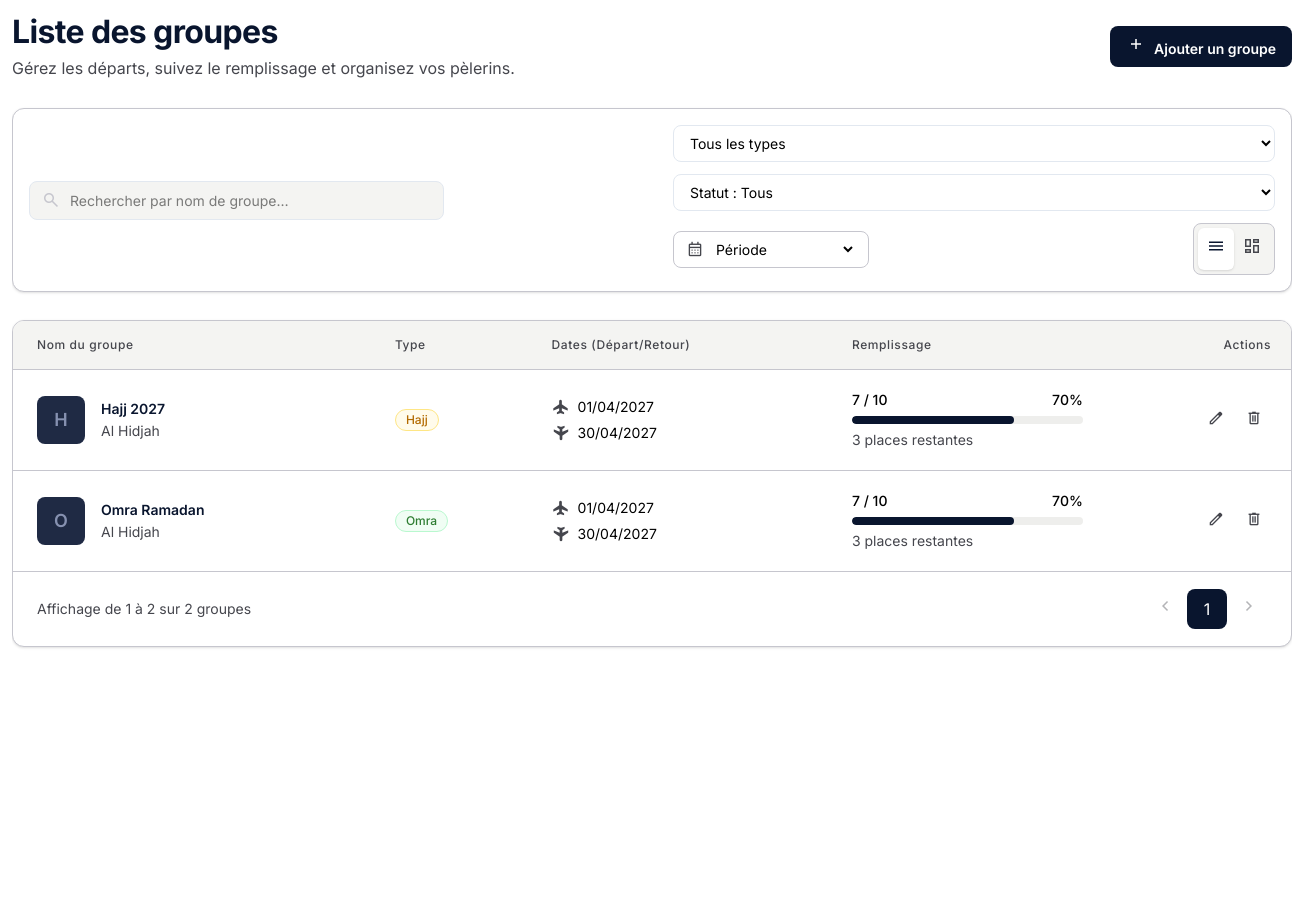
Test: Groupes › filtre la liste selon le type de voyage choisi
The width and height of the screenshot is (1304, 912).
Select "Hajj" in the dropdown named "Filtrer par type" at (974, 144), box [673,125,1275,162]
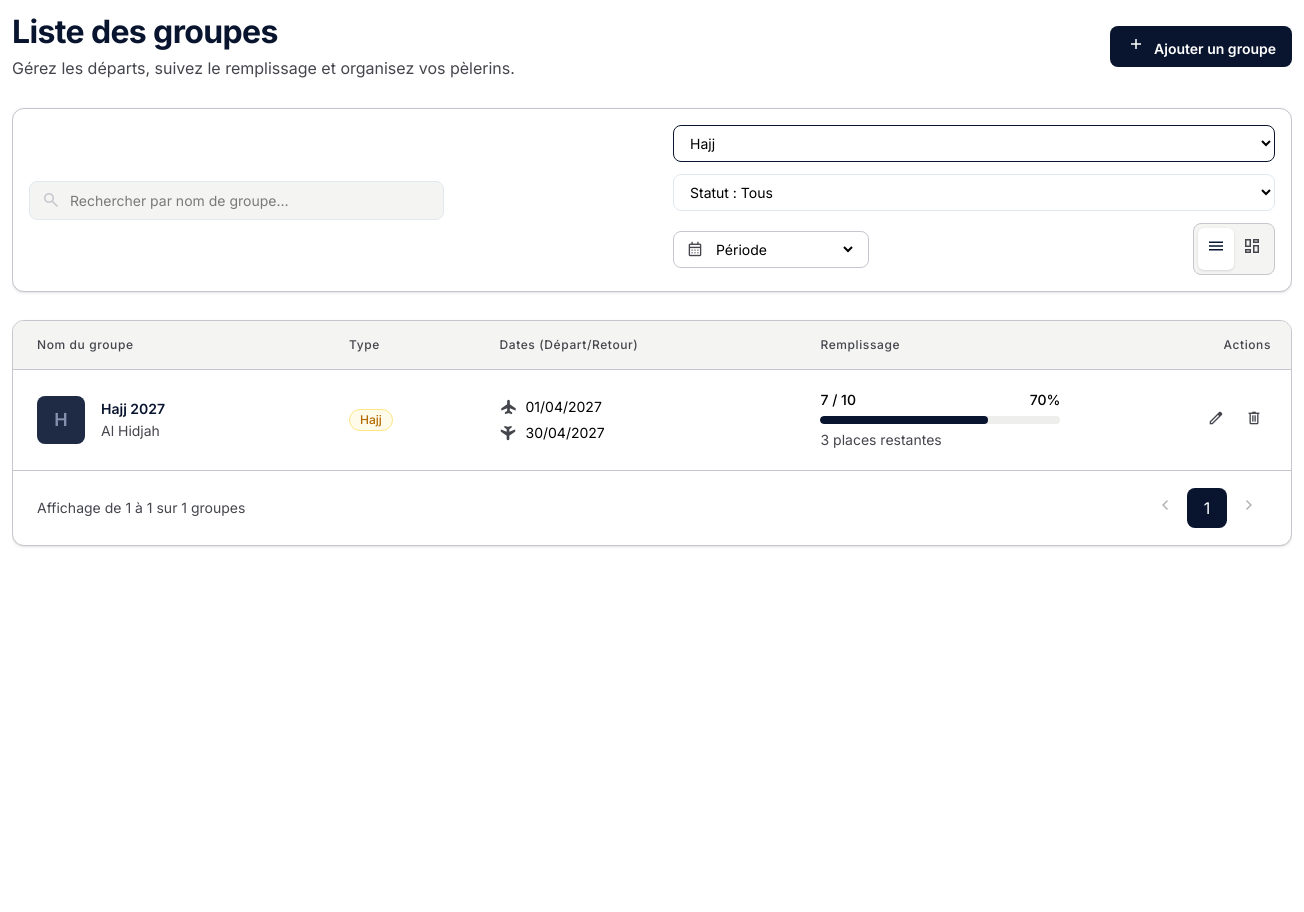
Expected: the link "Omra Ramadan" is gone
